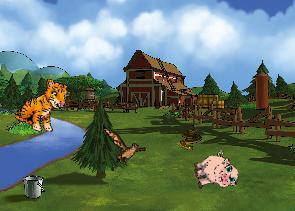eagle: (97, 125, 149, 168)
pig: (190, 148, 240, 196)
tiger: (12, 72, 71, 137)
